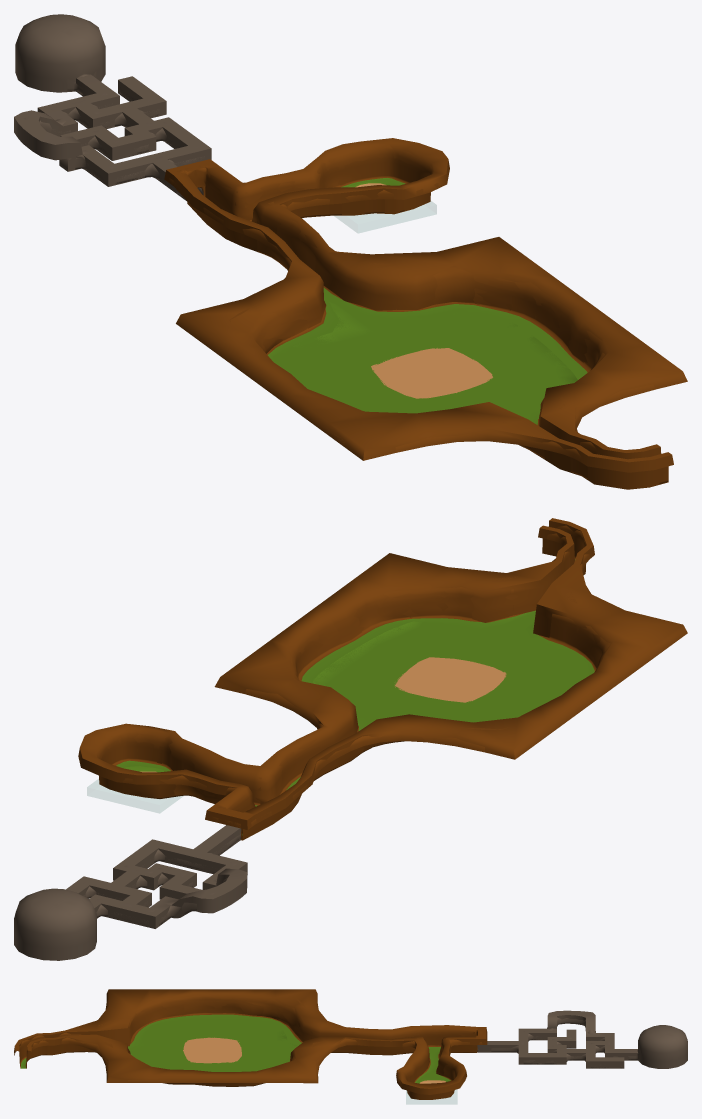
Rendered from Map Final 2.fbx.
3 views of the same model, one above another, from view 1: azimuth 30°, elevation 25°; view 2: azimuth 150°, elevation 25°; view 3: azimuth 270°, elevation 25° (orthographic). The views are drawn at different scales.
Parts seen in each view (by area): view 1: Terrain, Terrain_4, Water; view 2: Terrain, Terrain_4, Water; view 3: Terrain, Terrain_4, Water.
Part boxes in pixels (bbox=[...]): Terrain: bbox=[14, 14, 687, 489]; Terrain_4: bbox=[24, 15, 668, 483]; Water: bbox=[335, 201, 436, 232]; Terrain: bbox=[14, 518, 687, 960]; Terrain_4: bbox=[34, 525, 668, 925]; Water: bbox=[87, 779, 182, 812]; Terrain: bbox=[14, 989, 687, 1099]; Terrain_4: bbox=[15, 995, 675, 1097]; Water: bbox=[406, 1090, 456, 1103].
Size of the model in its own units: 21198 by 3354 by 59715.
